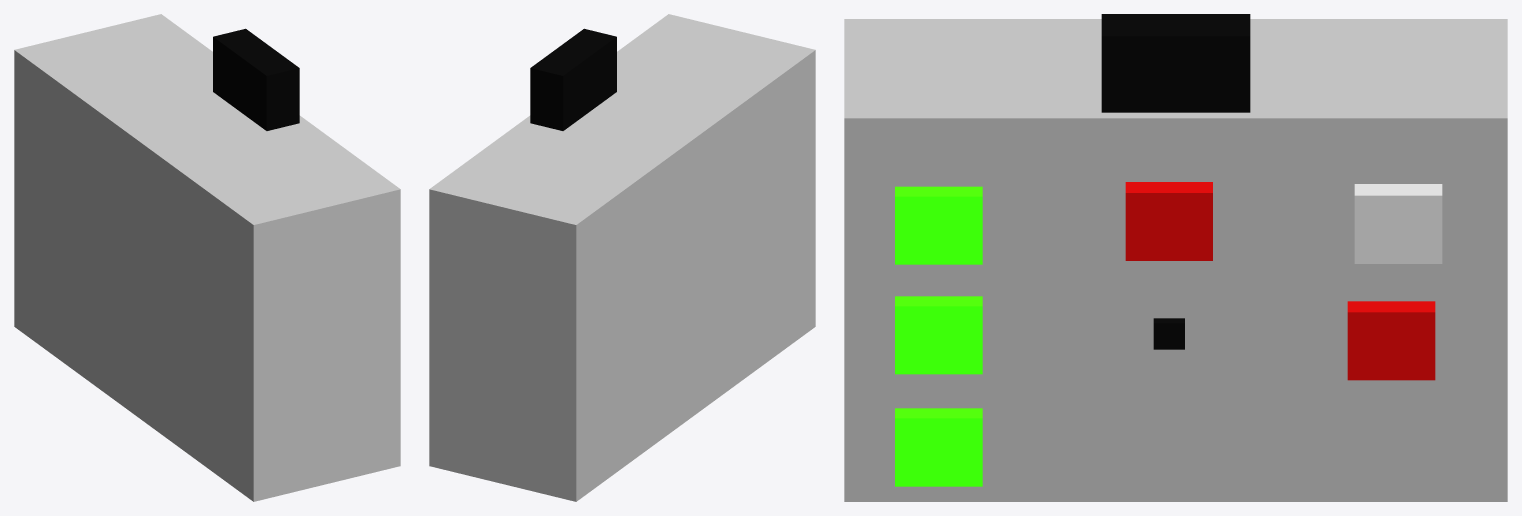
The model's file is CircuitBoard.fbx.
The picture shows the model from 3 angles, left to right: view 1: azimuth 30°, elevation 25°; view 2: azimuth 150°, elevation 25°; view 3: azimuth 270°, elevation 25°; orthographic projection. The views are drawn at different scales.
Parts seen in each view (by area): view 1: CircuitBoard, UI; view 2: CircuitBoard, UI; view 3: CircuitBoard, UI, C1_20v, C2_20v, A1_20v, A2_20v, A3_10v, B1_10v, Slot_B2.
Boxes of the visible parts, <box> form: CircuitBoard: <box>14,14,400,501</box>; UI: <box>213,28,299,130</box>; CircuitBoard: <box>429,14,815,501</box>; UI: <box>530,28,616,130</box>; CircuitBoard: <box>844,19,1507,501</box>; UI: <box>1101,14,1250,112</box>; C1_20v: <box>1354,184,1442,263</box>; C2_20v: <box>1347,301,1435,380</box>; A1_20v: <box>895,186,982,264</box>; A2_20v: <box>895,296,982,374</box>; A3_10v: <box>895,408,982,486</box>; B1_10v: <box>1125,182,1212,260</box>; Slot_B2: <box>1153,318,1184,349</box>.
Size of the model in its own units: 300 by 580 by 758.
